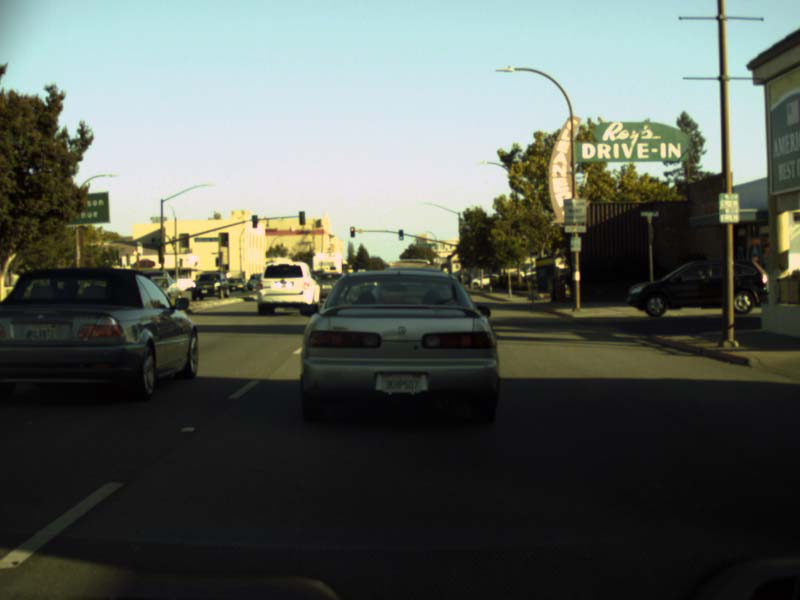Green: (398, 229, 403, 239)
Red: (349, 226, 354, 236)
